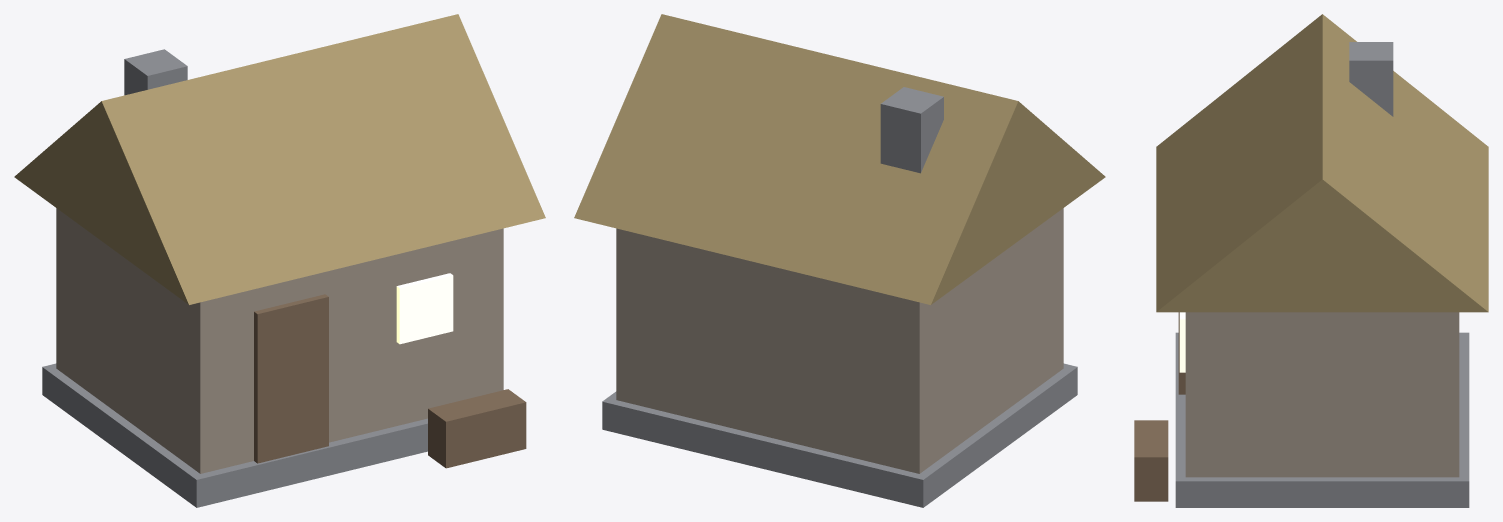
The model's file is cottage_thatch.glb.
The picture shows the model from 3 angles, left to right: view 1: azimuth 30°, elevation 25°; view 2: azimuth 150°, elevation 25°; view 3: azimuth 270°, elevation 25°; orthographic projection. The views are drawn at different scales.
Parts seen in each view (by area): view 1: cottage_thatch; view 2: cottage_thatch; view 3: cottage_thatch.
Boxes of the visible parts, x1,y1,x2,y2 form: cottage_thatch: [14, 14, 545, 507]; cottage_thatch: [574, 14, 1105, 507]; cottage_thatch: [1134, 14, 1488, 507].
Size of the model in its own units: 4 by 3.8 by 3.62.
